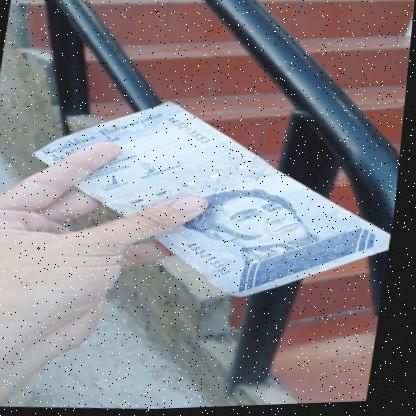ten-front-vef: (16, 87, 408, 315)
